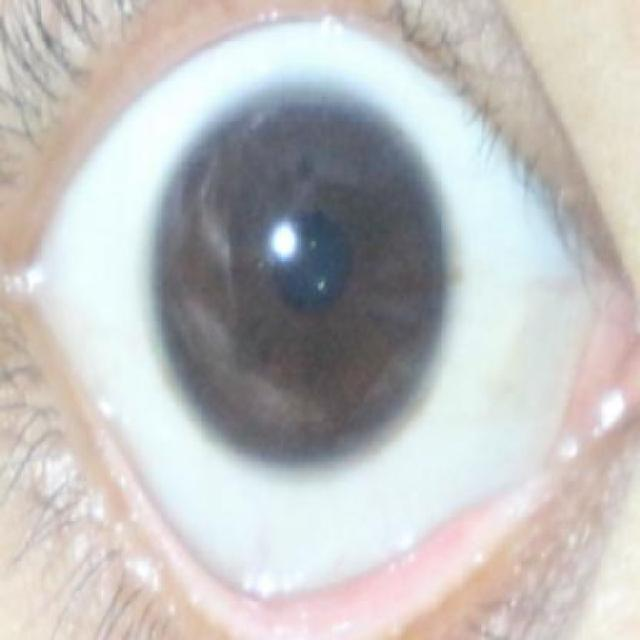Normal: (144, 74, 454, 478)
